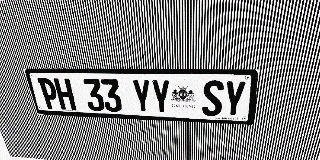3: (100, 79, 122, 112), (83, 79, 105, 111)
H: (53, 78, 77, 110)
P: (37, 78, 61, 110)
S: (202, 80, 224, 116)
Y: (222, 80, 247, 117), (131, 79, 152, 113), (151, 79, 171, 114)
